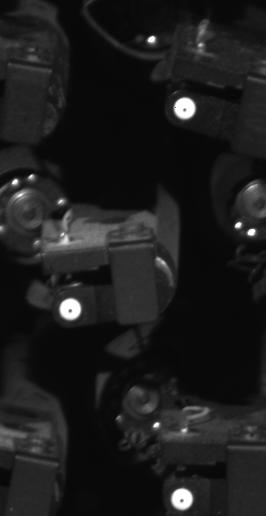fiber: (167, 89, 206, 127), (54, 290, 90, 329), (165, 481, 204, 516)
